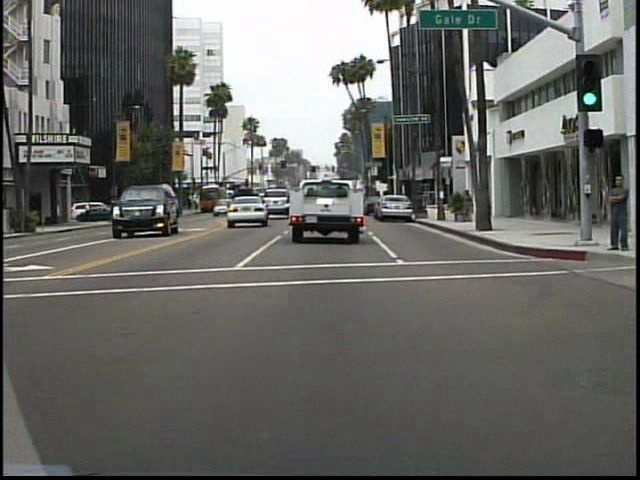person: (600, 166, 628, 257), (458, 184, 475, 220)
